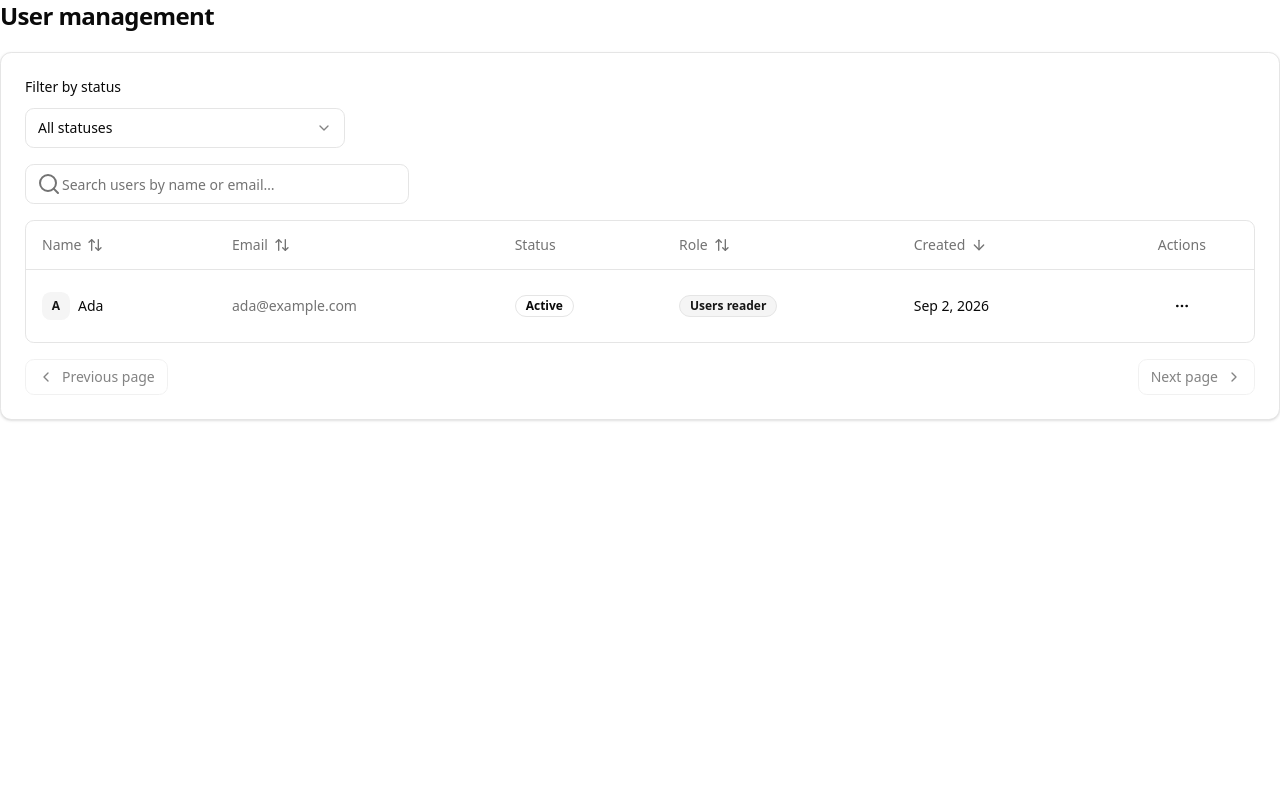
access components › keeps a stale assignment draft and requires a browser refresh
Expected: the text "Ada" is shown, [78,296,103,316]
Click the button named "More actions".
click(1182, 306)  # box [1162,286,1202,326]
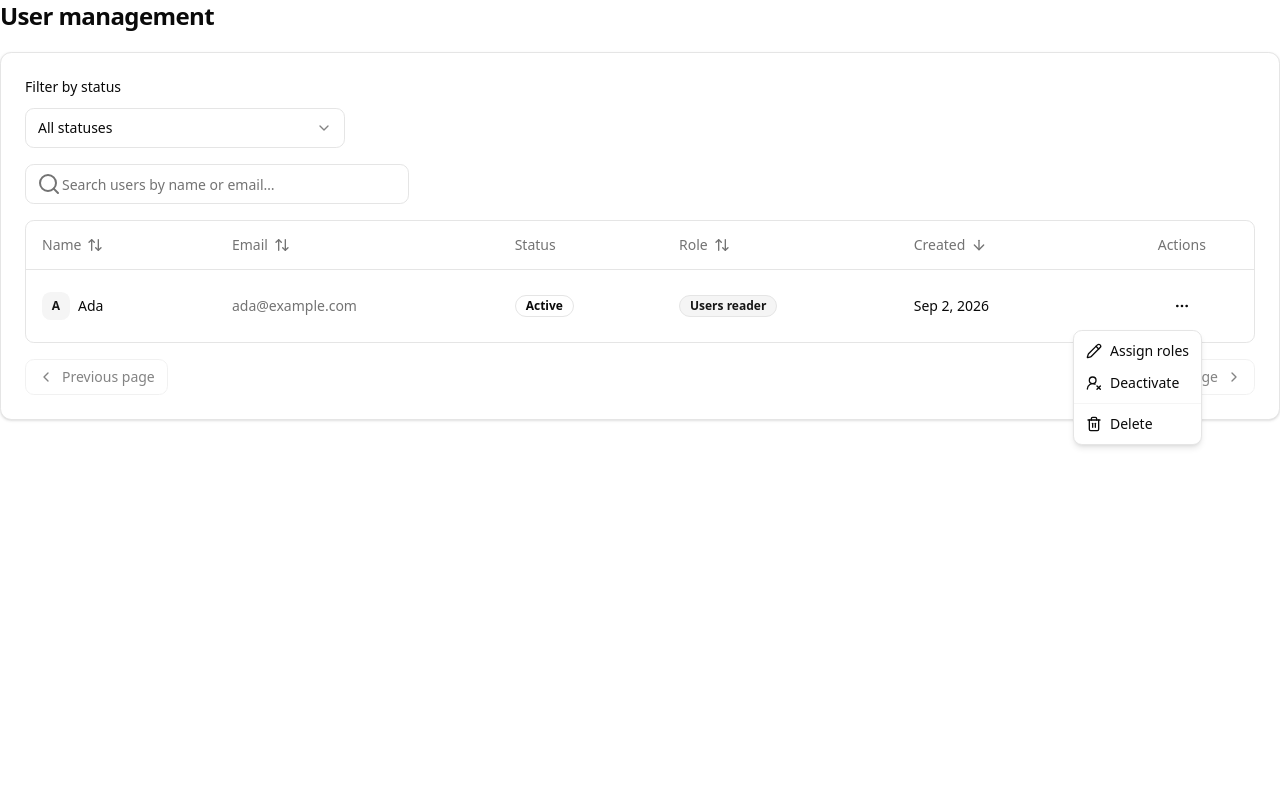
Click the menu item "Assign roles".
click(1138, 350)  # box [1086,341,1189,360]
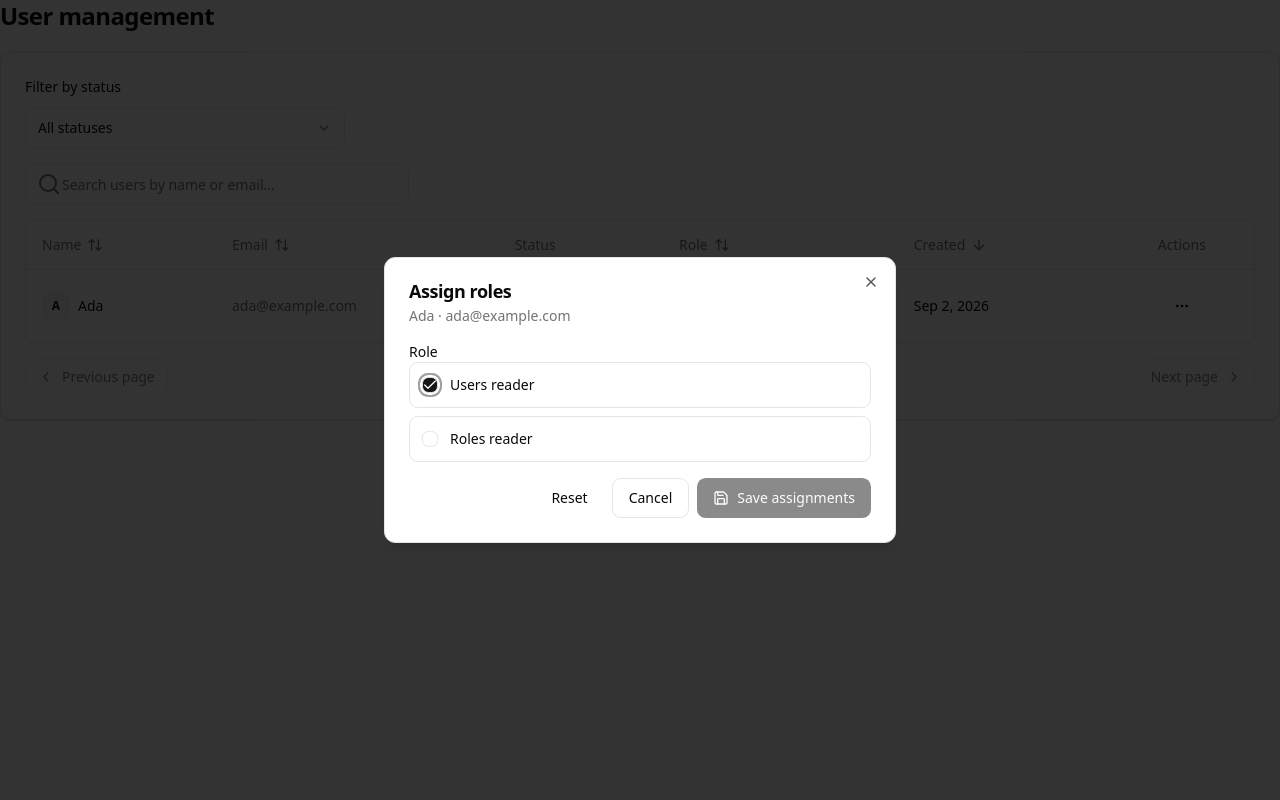
Click the checkbox named "Users reader".
click(430, 385)  # box [422,377,438,393]
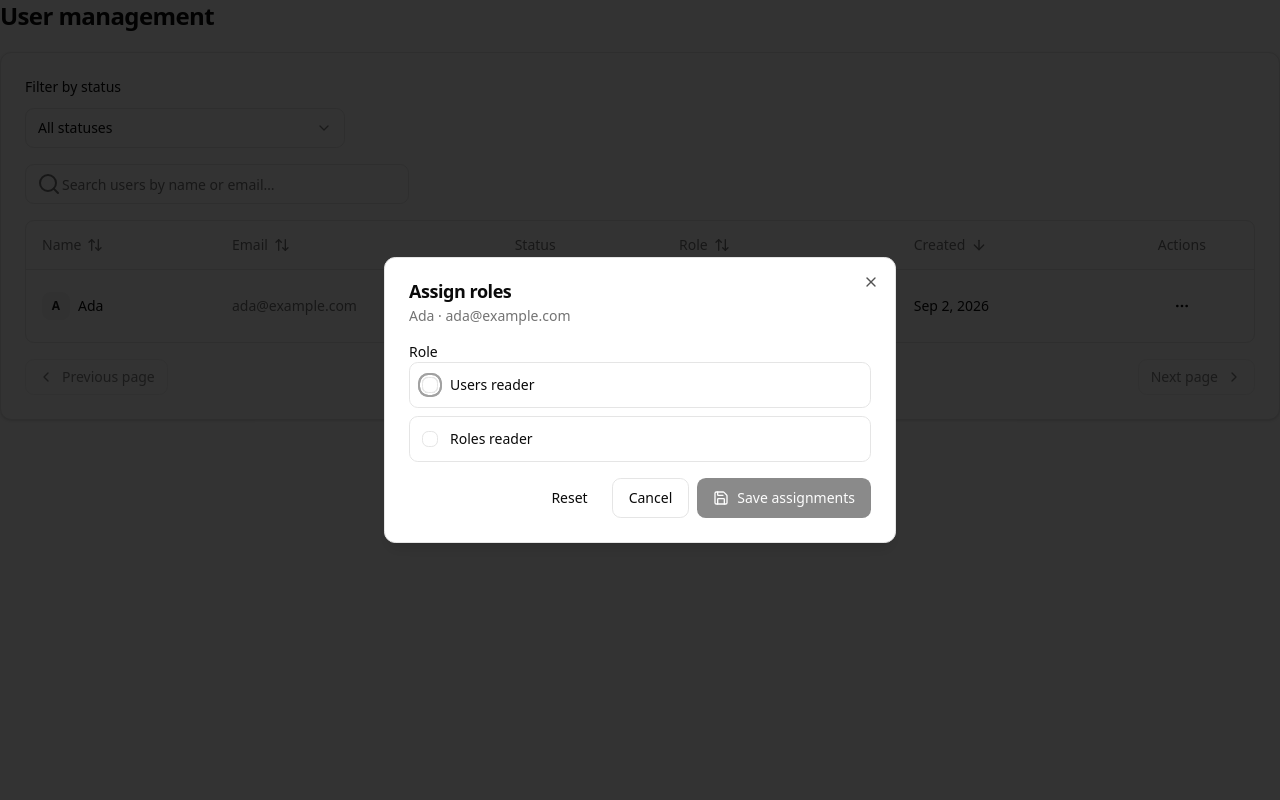
Click the checkbox named "Roles reader".
click(430, 439)  # box [422,431,438,447]
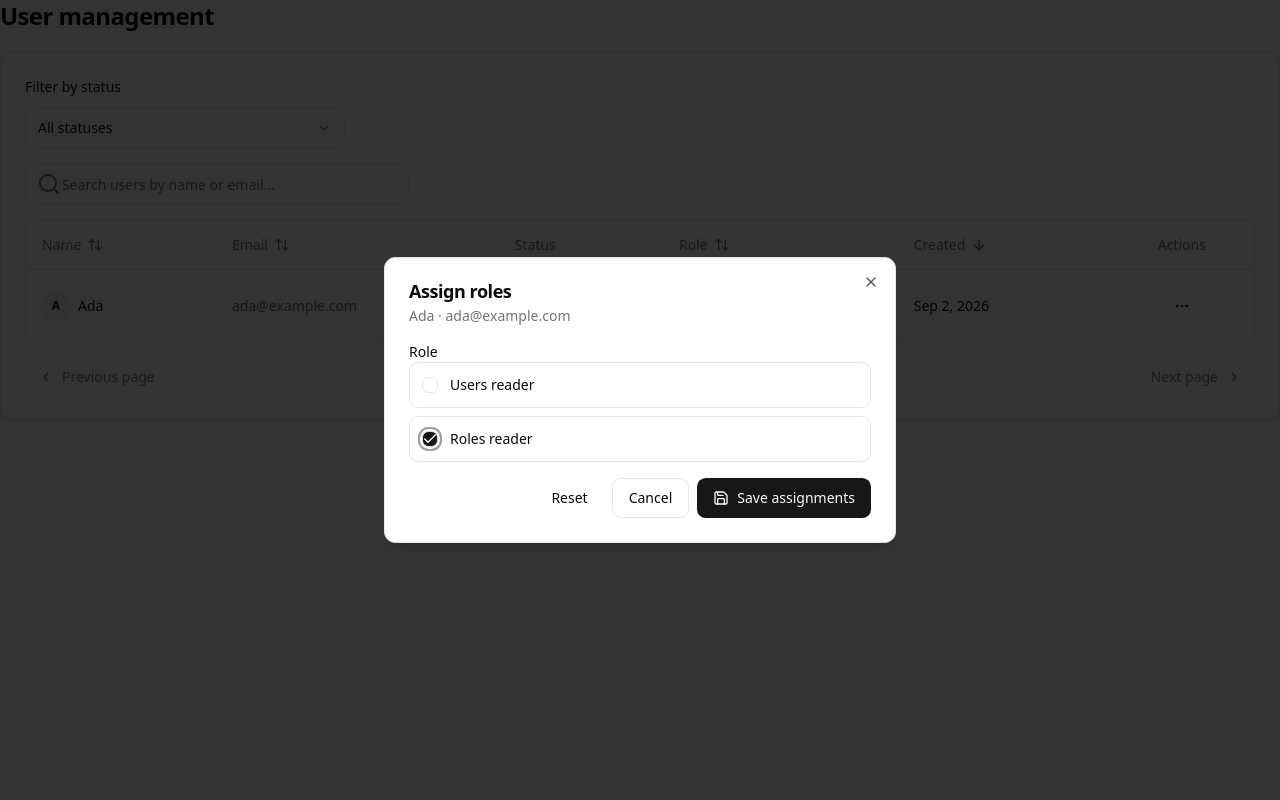
Click the button "Save assignments".
click(784, 498)  # box [697,478,871,518]
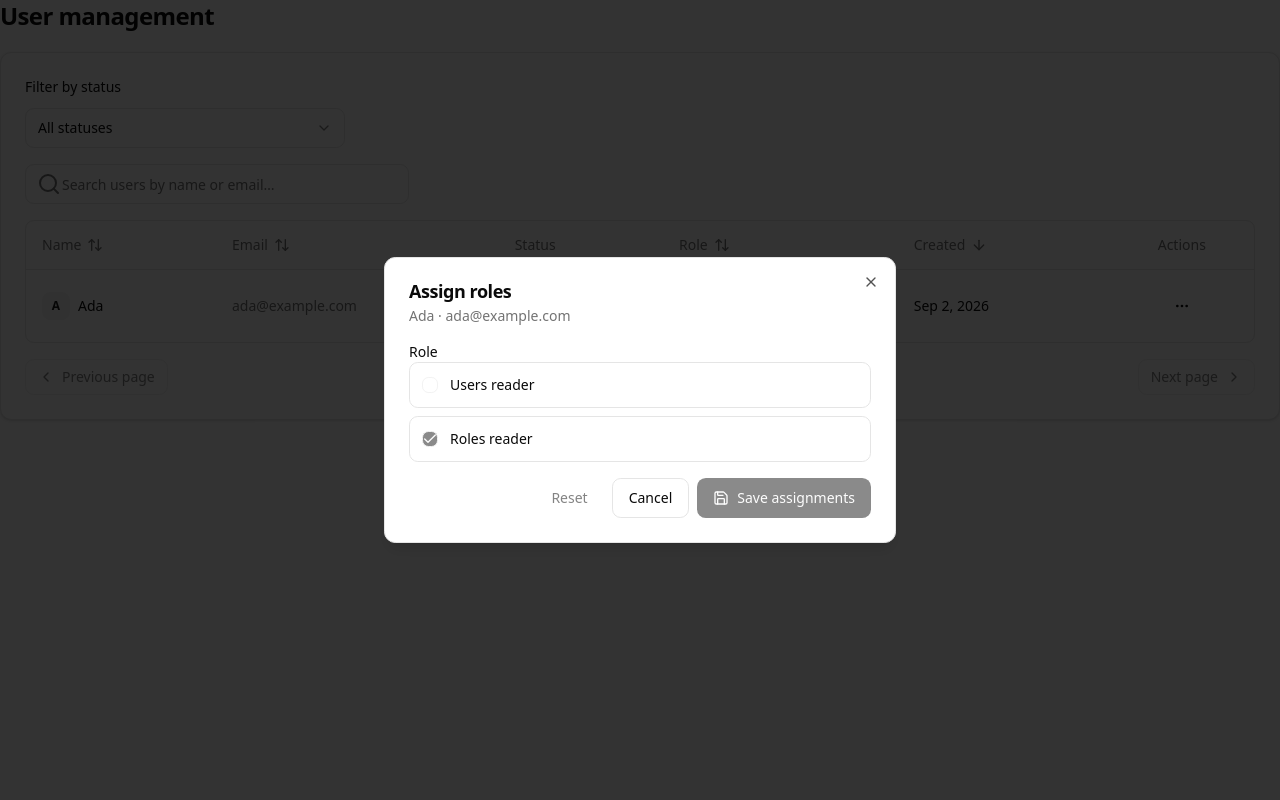
Expected: the checkbox named "Roles reader" is checked, [422,431,438,447]
Expected: the button "Save assignments" is disabled, [697,478,871,518]
